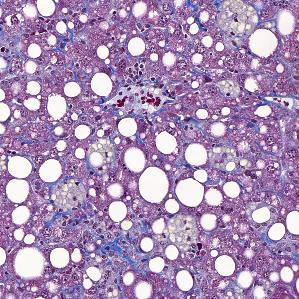fibrosis: (34, 192, 113, 246), (118, 69, 186, 116)
